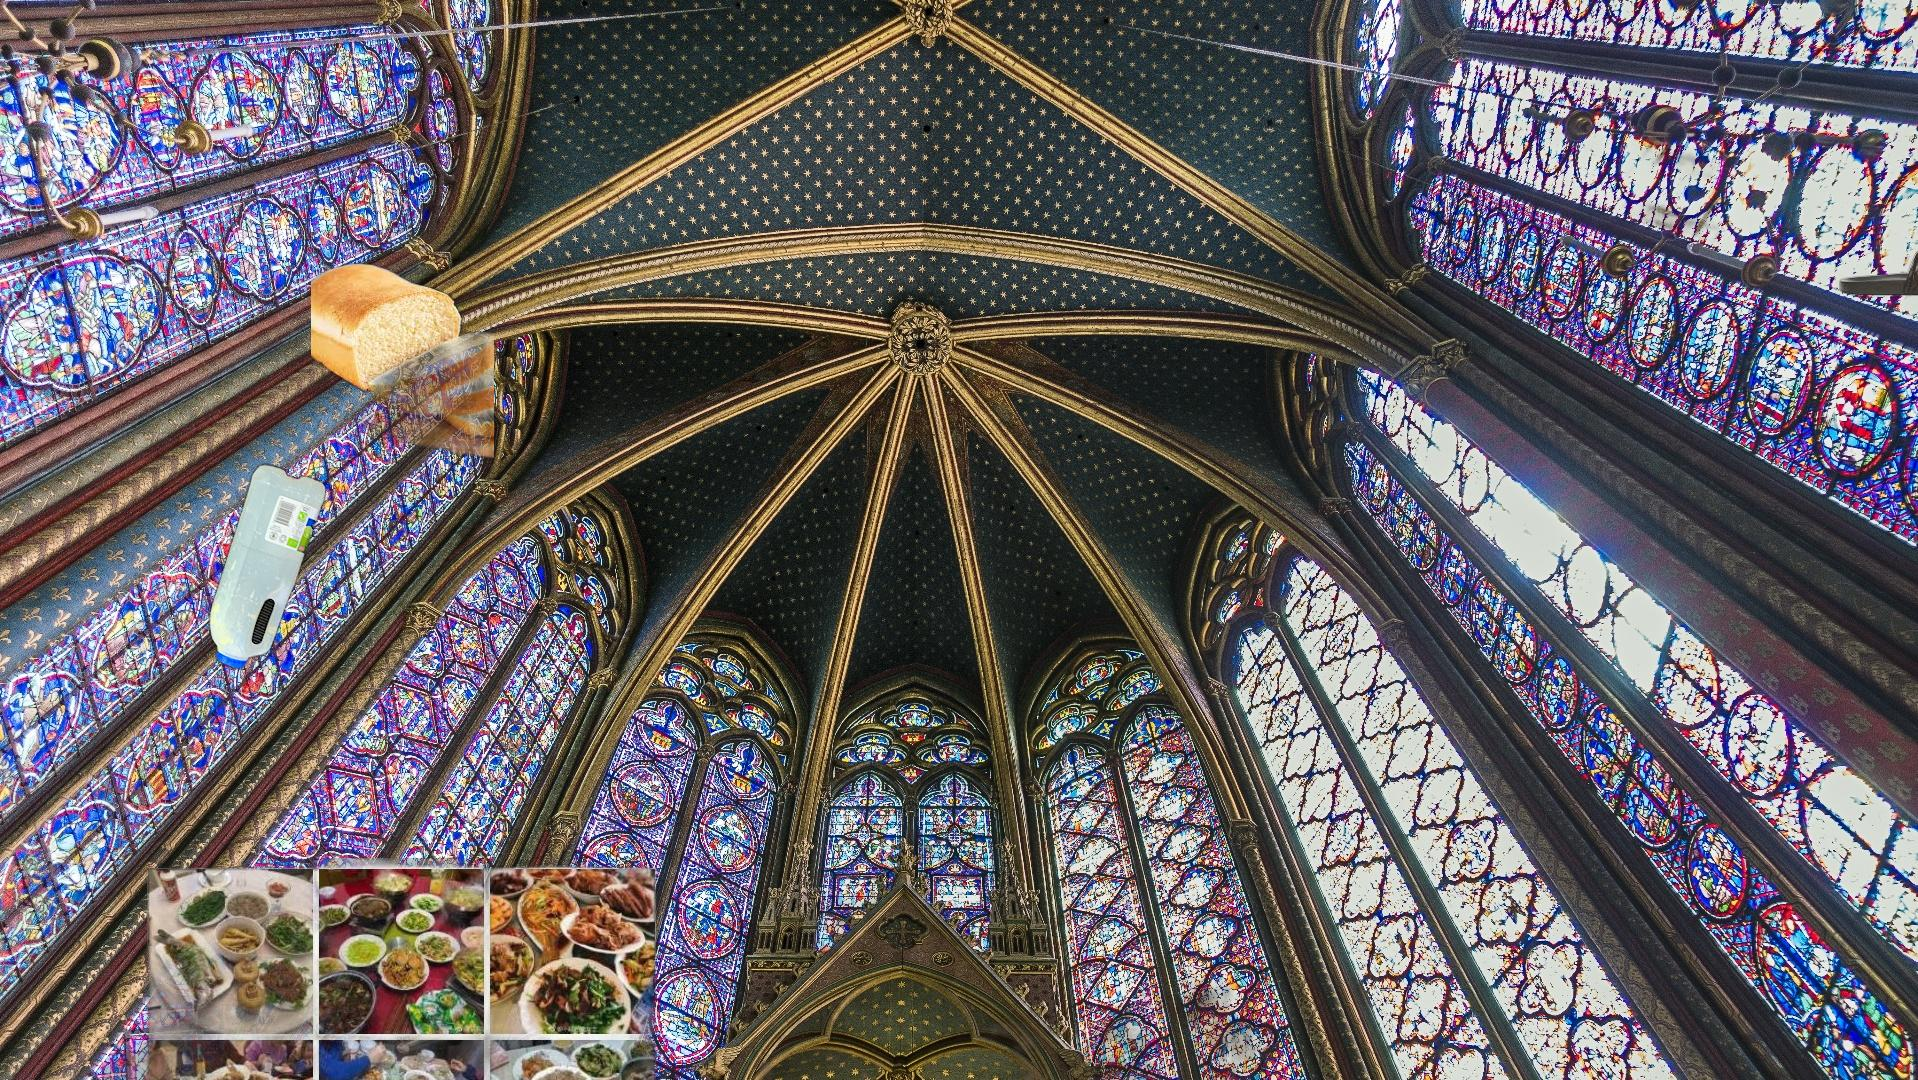biological: (753, 752, 1294, 1080), (119, 857, 677, 1080), (311, 261, 494, 483)
glass: (1208, 137, 1720, 821)
paper: (101, 882, 614, 1080)
plastic-bottles: (205, 460, 331, 674)
shoes: (1836, 246, 1918, 300)
